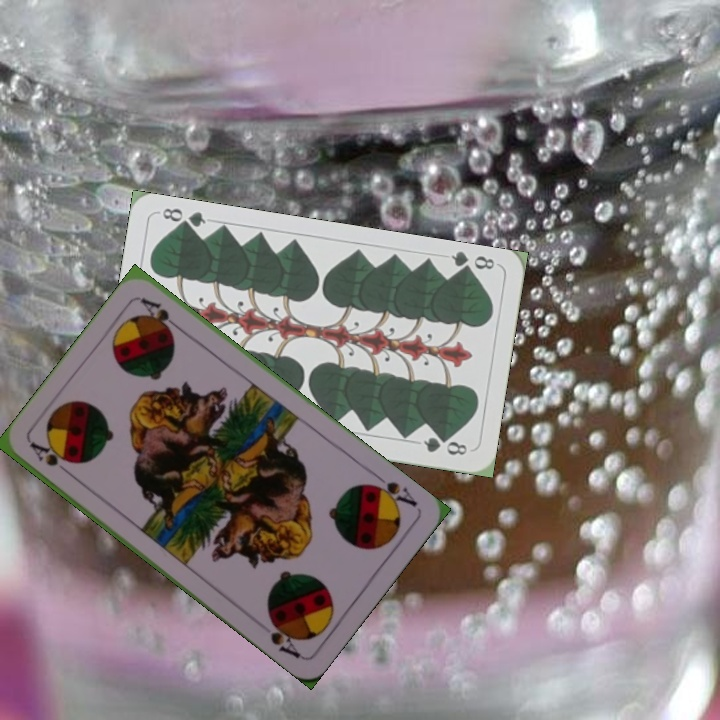G8: (447, 248, 497, 278)
SA: (363, 468, 420, 513), (26, 438, 77, 480)
